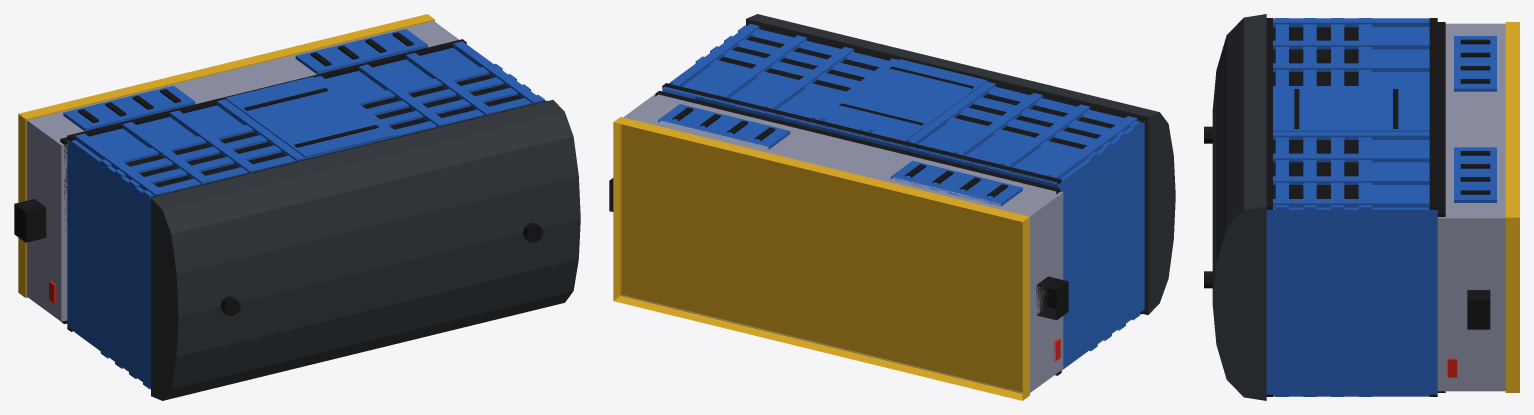
3 renders of one model, left to right at view 1: azimuth 30°, elevation 25°; view 2: azimuth 150°, elevation 25°; view 3: azimuth 270°, elevation 25°, orthographic.
Parts seen in each view (by area): view 1: default_roof, default_body, default_base, default_end-1, default_side1_-0.75_2.12, default_stripe, default_inner, default_pod10, default_pod11, default_side1_-3.40_3.00, default_side1_-3.40_3.42, default_side1_-3.40_3.84 (+12 smaller); view 2: default_stripe, default_base, default_body, default_end-1, default_roof, default_side1_-0.75_2.12, default_inner, default_pod10, default_side1_-3.40_2.00, default_side1_-3.40_3.00, default_side1_-3.40_3.42, default_side1_-3.40_4.26 (+13 smaller); view 3: default_end1, default_roof, default_base, default_body, default_side1_-0.75_2.12, default_stripe, default_inner, default_pod11, default_pod10, default_base_lip, default_side1_-3.40_2.00, default_side1_-3.40_3.84 (+14 smaller).
Boxes of the visible parts, left/top/right/bottom form: default_roof: left=151, top=100, right=580, bottom=400; default_body: left=67, top=48, right=479, bottom=350; default_base: left=26, top=21, right=459, bottom=321; default_end-1: left=100, top=163, right=150, bottom=387; default_side1_-0.75_2.12: left=225, top=76, right=392, bottom=158; default_stripe: left=18, top=14, right=434, bottom=297; default_inner: left=125, top=74, right=522, bottom=187; default_pod10: left=63, top=85, right=195, bottom=131; default_pod11: left=295, top=29, right=427, bottom=74; default_side1_-3.40_3.00: left=100, top=63, right=502, bottom=167; default_side1_-3.40_3.42: left=115, top=74, right=516, bottom=177; default_side1_-3.40_3.84: left=129, top=84, right=530, bottom=187; default_stripe: left=613, top=117, right=1029, bottom=400; default_base: left=621, top=94, right=1063, bottom=392; default_body: left=662, top=67, right=1090, bottom=371; default_end-1: left=1087, top=121, right=1144, bottom=348; default_roof: left=746, top=14, right=1175, bottom=314; default_side1_-0.75_2.12: left=820, top=59, right=987, bottom=142; default_inner: left=719, top=36, right=1114, bottom=148; default_pod10: left=890, top=160, right=1022, bottom=206; default_side1_-3.40_2.00: left=662, top=83, right=1061, bottom=184; default_side1_-3.40_3.00: left=695, top=56, right=1097, bottom=159; default_side1_-3.40_3.42: left=710, top=46, right=1111, bottom=149; default_side1_-3.40_4.26: left=738, top=25, right=1139, bottom=128; default_end1: left=1266, top=207, right=1371, bottom=394; default_roof: left=1212, top=14, right=1266, bottom=400; default_base: left=1437, top=23, right=1505, bottom=391; default_body: left=1372, top=27, right=1437, bottom=394; default_side1_-0.75_2.12: left=1273, top=88, right=1429, bottom=131; default_stripe: left=1505, top=22, right=1519, bottom=392; default_inner: left=1273, top=27, right=1358, bottom=198; default_pod11: left=1454, top=147, right=1496, bottom=202; default_pod10: left=1454, top=36, right=1496, bottom=91; default_base_lip: left=1437, top=22, right=1445, bottom=392; default_side1_-3.40_2.00: left=1429, top=18, right=1437, bottom=209; default_side1_-3.40_3.84: left=1303, top=18, right=1316, bottom=209.
Size of the model in its own units: 7.7 by 3.32 by 4.8.
